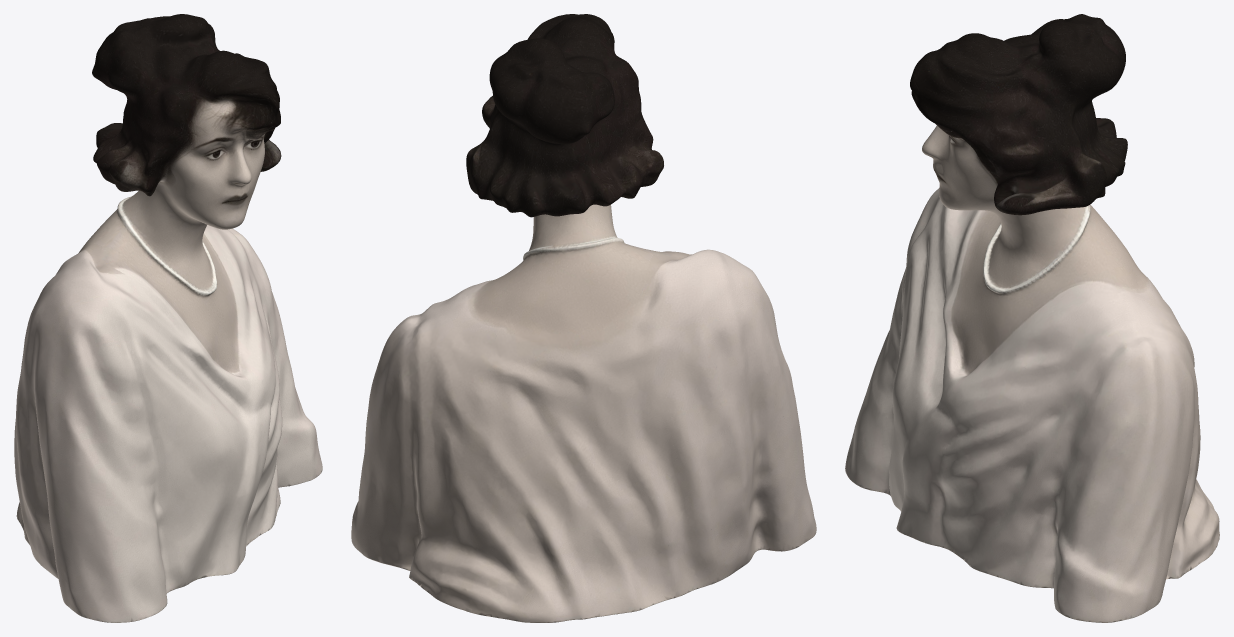
Rendered from alice_brady.glb.
3 views of the same model, side by side, from view 1: azimuth 30°, elevation 25°; view 2: azimuth 150°, elevation 25°; view 3: azimuth 270°, elevation 25° (orthographic). The views are drawn at different scales.
Parts seen in each view (by area): view 1: Alice_Brady_Bust; view 2: Alice_Brady_Bust; view 3: Alice_Brady_Bust.
Boxes of the visible parts, left/top/right/bottom form: Alice_Brady_Bust: left=14, top=14, right=322, bottom=622; Alice_Brady_Bust: left=351, top=14, right=816, bottom=622; Alice_Brady_Bust: left=845, top=14, right=1219, bottom=622.
Bounding box in the file's own units: 1.38 × 1.9 × 1.24.
Materials: 1 (1 with a texture image).
